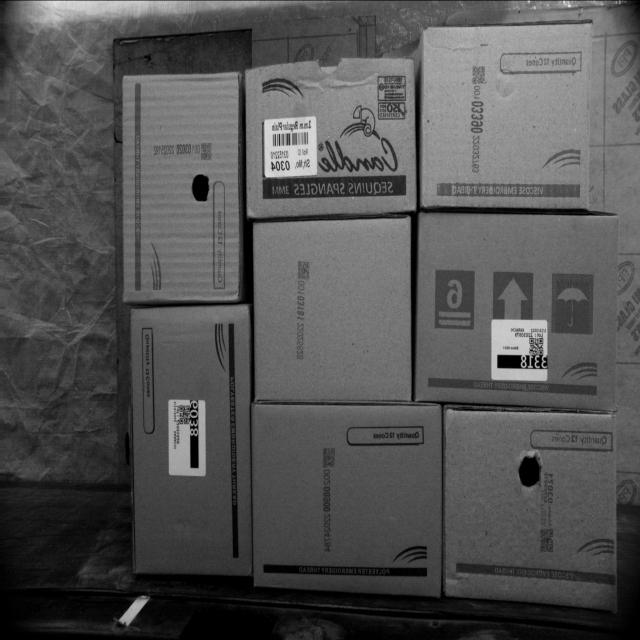cardboxes: (413, 213, 622, 409), (252, 403, 442, 596), (443, 412, 619, 614), (419, 19, 590, 208), (135, 304, 252, 575), (256, 215, 414, 398), (243, 57, 419, 219), (122, 70, 241, 303)
